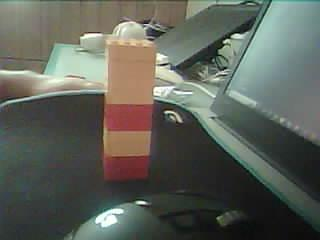lego: (102, 37, 157, 181)
